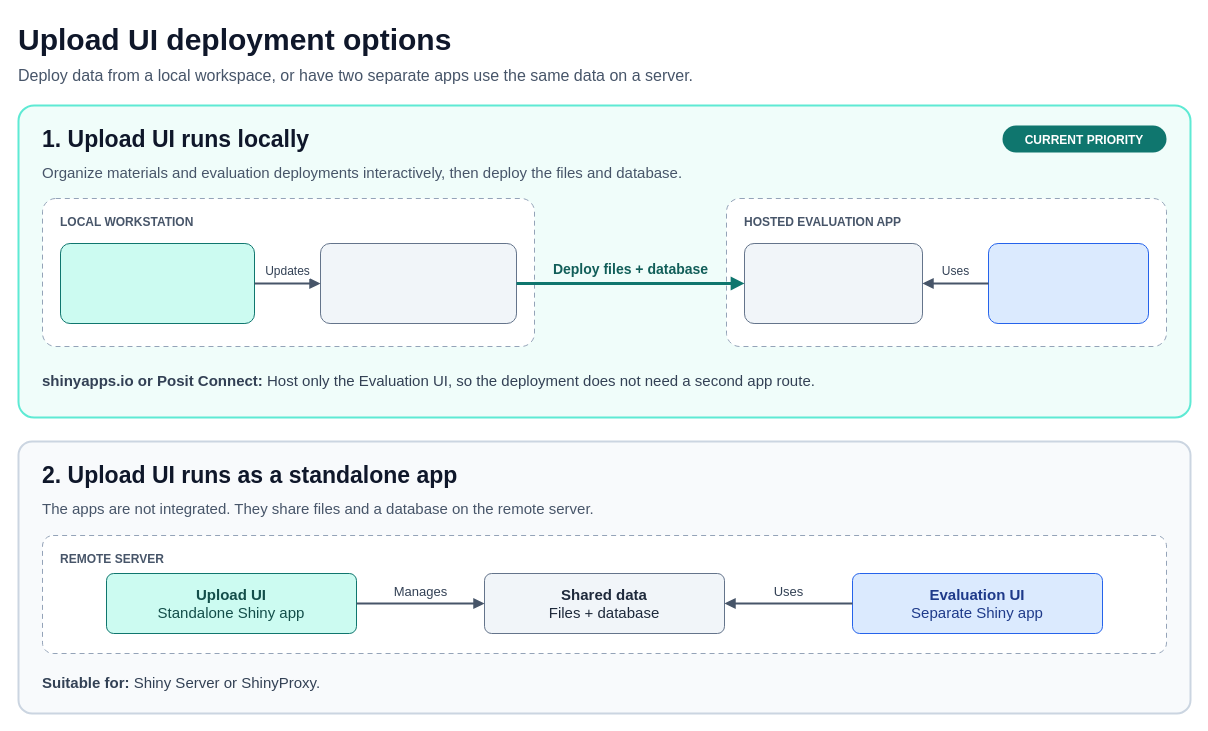
The diagram is 1208 pixels wide and 731 high, and some of its shapes have lost their labels. Each missing label, with the centre of its shape:
Deployed data Files + database: (x=833, y=283)
Evaluation UI Hosted Shiny app: (x=1068, y=283)
Local data Files + database: (x=418, y=283)
Upload UI Materials and deployments: (x=157, y=283)
